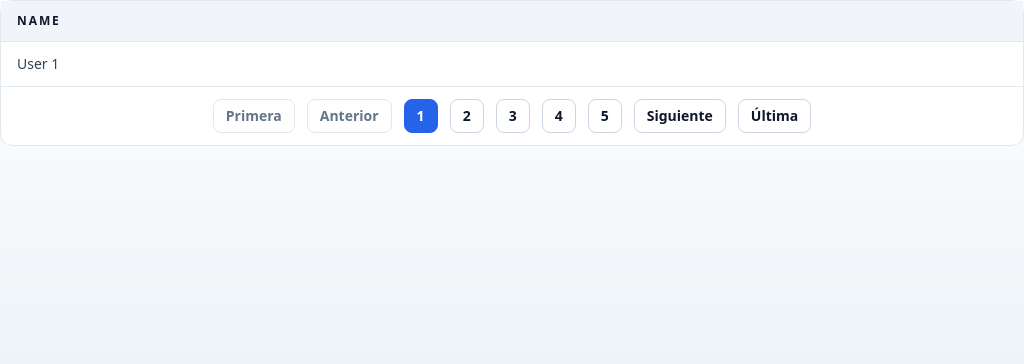
Test: RuntimePage › renders numbered table pagination with a compact page window
The image size is (1024, 364).
Click the button "2": x=467, y=116 [450,99,484,133]
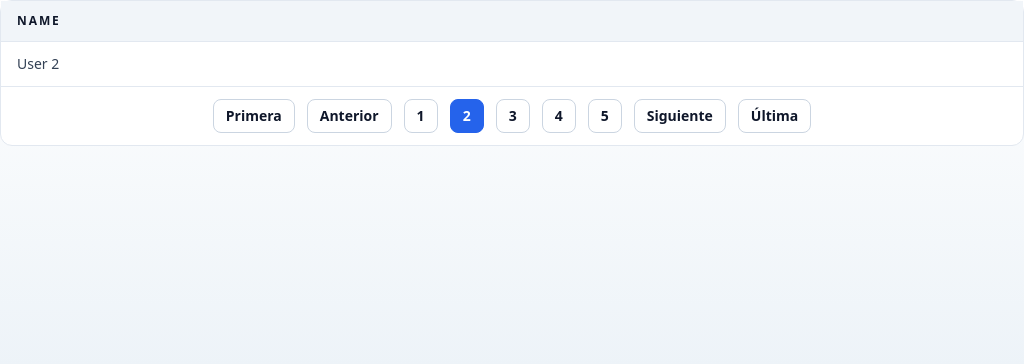
Result: the button "2" is marked as current at [450,99,484,133]
Click the button "Última": x=774, y=116 [738,99,811,133]
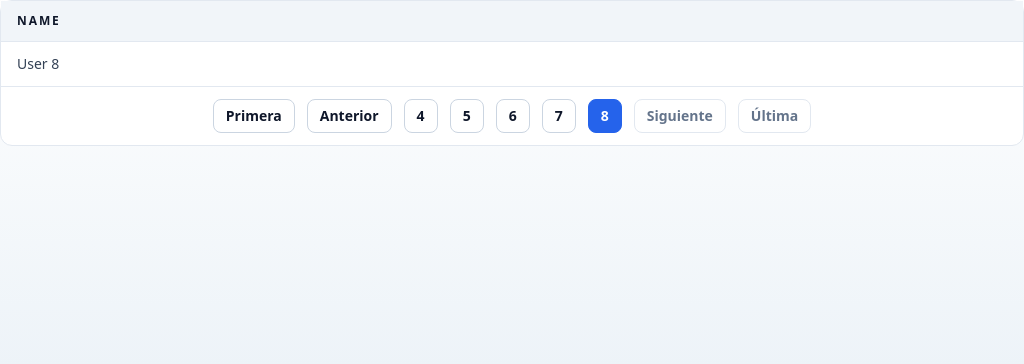
Result: the button "Siguiente" is disabled at [634,99,726,133]
Result: the button "Última" is disabled at [738,99,811,133]
